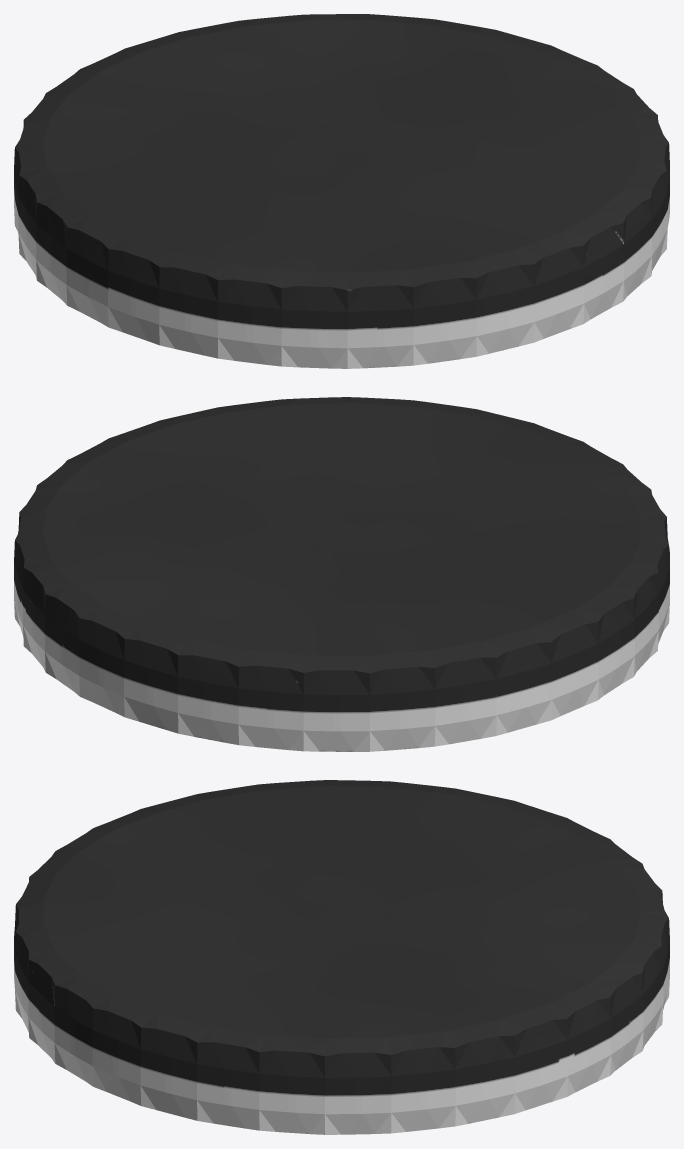
Rendered from disc.glb.
3 renders of one model, top to bottom at view 1: azimuth 30°, elevation 25°; view 2: azimuth 150°, elevation 25°; view 3: azimuth 270°, elevation 25°, orthographic.
Parts seen in each view (by area): view 1: disc-convcol; view 2: disc-convcol; view 3: disc-convcol.
Boxes of the visible parts, x1,y1,x2,y2 form: disc-convcol: (14,14,669,368); disc-convcol: (14,397,669,751); disc-convcol: (14,780,669,1134).
Size of the model in its own units: 0.045 by 0.00683 by 0.045.
1 material, 1 textured.
